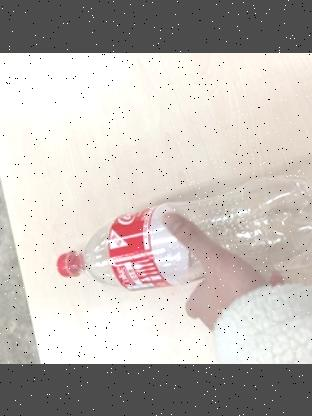Plastic Bottle: (52, 173, 312, 293)
